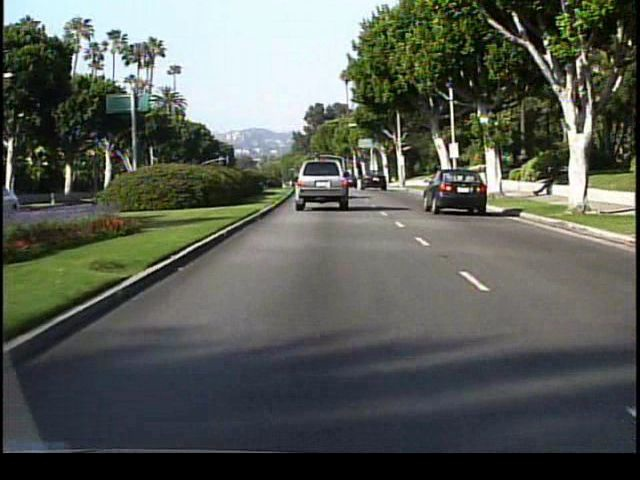person: (536, 162, 560, 201)
